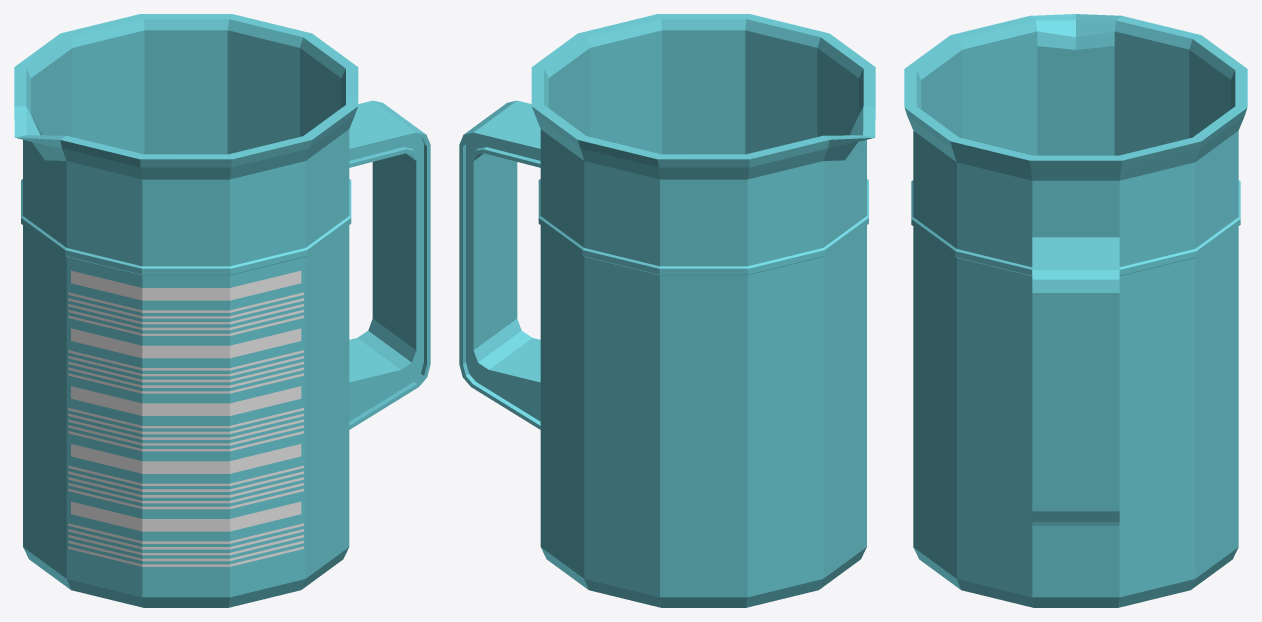
The model's file is SM_Beaker_01_B.glb.
3 renders of one model, left to right at view 1: azimuth 30°, elevation 25°; view 2: azimuth 150°, elevation 25°; view 3: azimuth 270°, elevation 25°, orthographic.
Parts seen in each view (by area): view 1: SM_Beaker_01_B; view 2: SM_Beaker_01_B; view 3: SM_Beaker_01_B.
Part boxes in pixels (x1,y1,x2,y2): SM_Beaker_01_B: (14,14,430,607); SM_Beaker_01_B: (459,14,875,607); SM_Beaker_01_B: (904,14,1247,607).
Bounding box in the file's own units: 0.1593 × 0.1778 × 0.1204.
